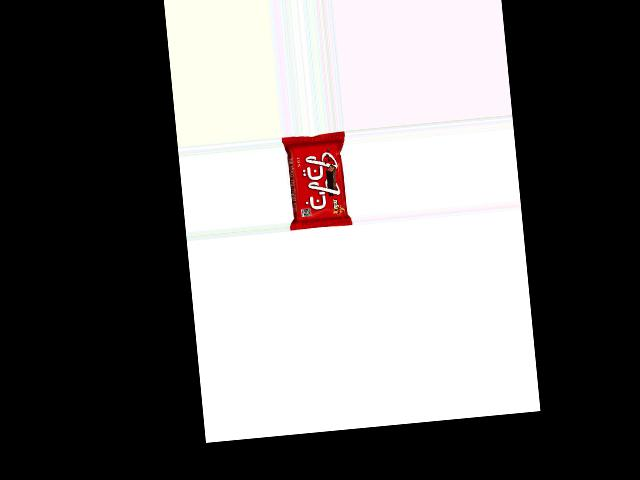chocolate: (280, 132, 352, 230)
